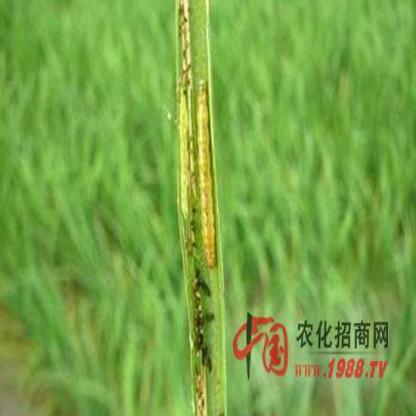leaf-folder: (178, 74, 228, 270)
